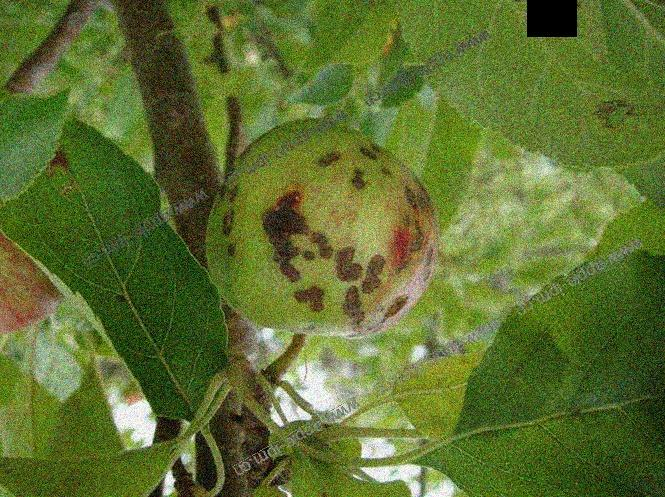rotten apple: (189, 117, 447, 348)
